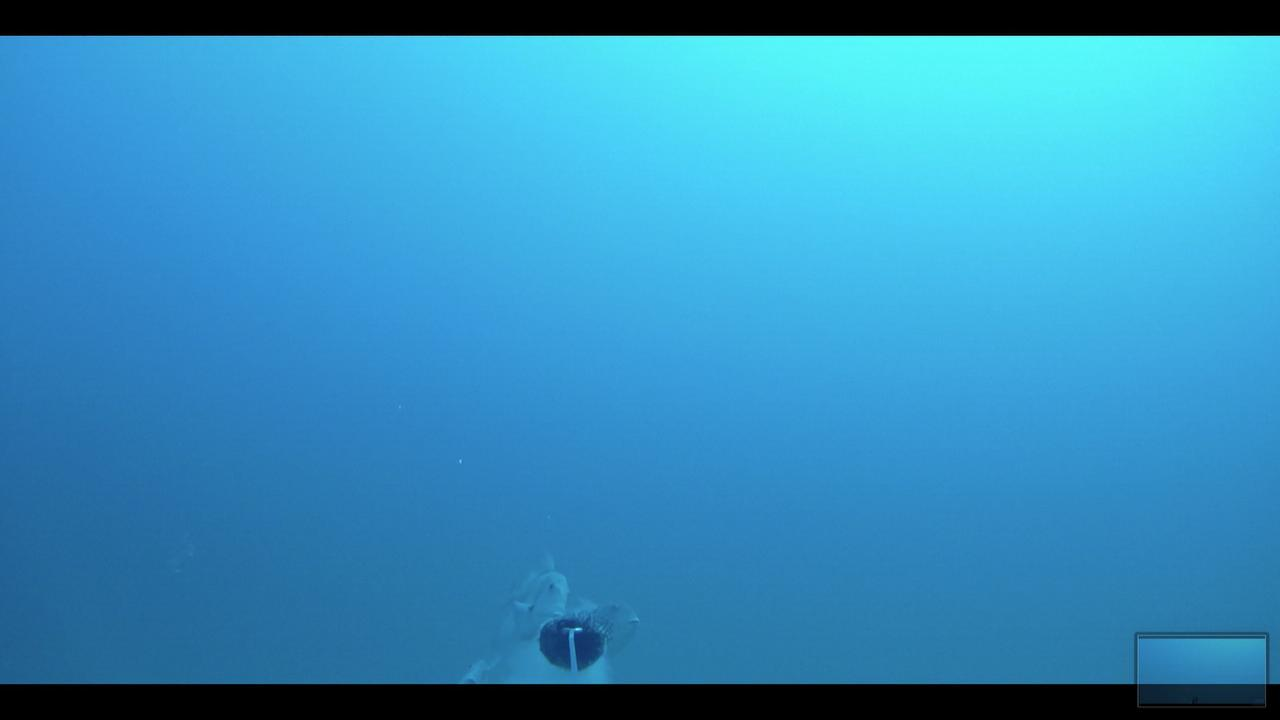balistes: (495, 551, 571, 647), (573, 589, 645, 658)
